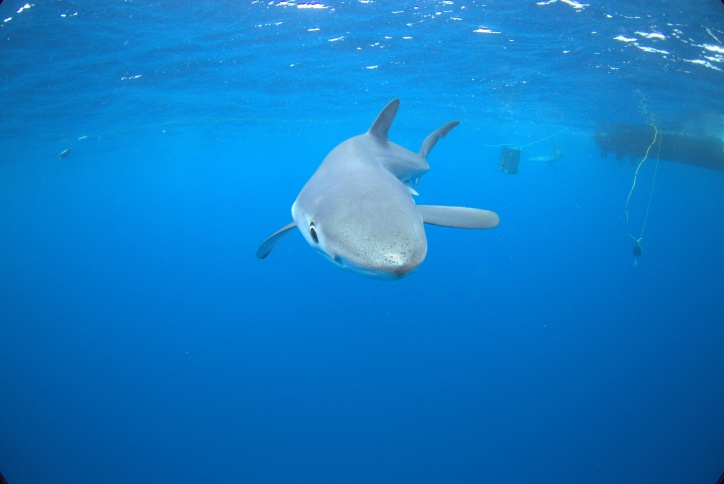Azul: (241, 93, 517, 294)
